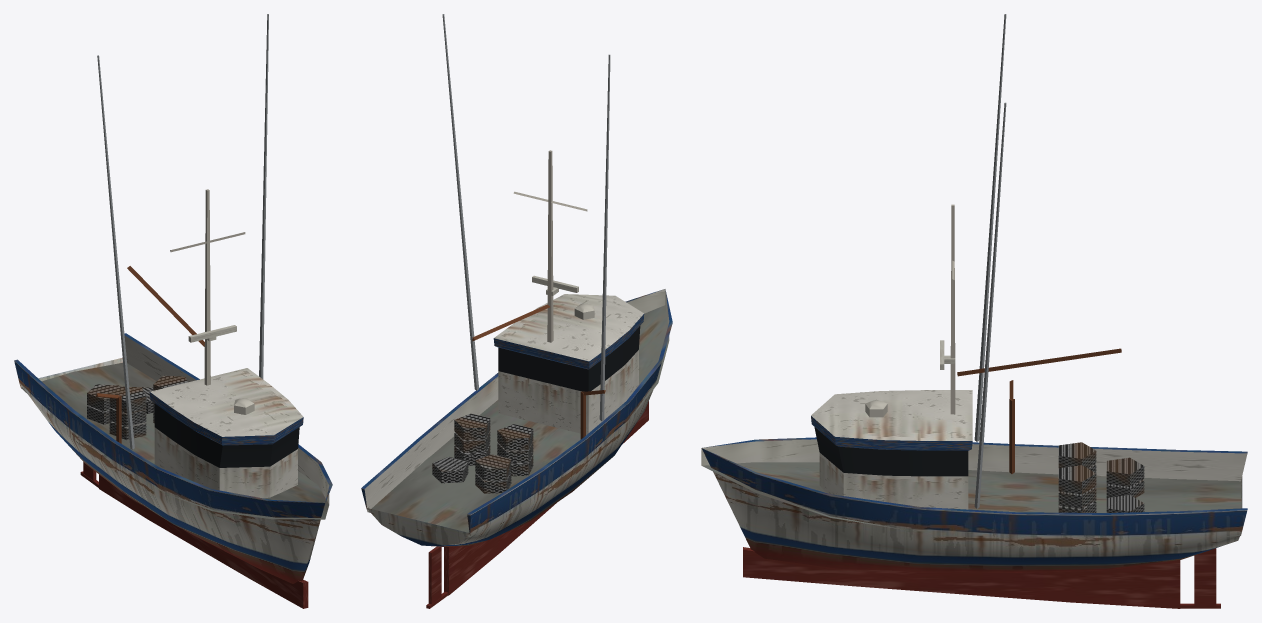
The model's file is fishingBoat-a-lod2.glb.
3 renders of one model, left to right at view 1: azimuth 30°, elevation 25°; view 2: azimuth 150°, elevation 25°; view 3: azimuth 270°, elevation 25°, orthographic. The views are drawn at different scales.
Parts seen in each view (by area): view 1: Hull, Superstructure, Rig, Gear; view 2: Hull, Superstructure, Gear, Rig; view 3: Hull, Superstructure, Rig, Gear.
Part boxes in pixels (left/top/right/bottom): Hull: left=14, top=333, right=332, bottom=608; Superstructure: left=149, top=368, right=303, bottom=498; Rig: left=97, top=14, right=268, bottom=449; Gear: left=87, top=375, right=187, bottom=443; Hull: left=361, top=289, right=672, bottom=608; Superstructure: left=493, top=294, right=644, bottom=434; Gear: left=432, top=390, right=605, bottom=493; Rig: left=442, top=14, right=610, bottom=421; Hull: left=701, top=437, right=1247, bottom=608; Superstructure: left=811, top=390, right=972, bottom=509; Rig: left=865, top=14, right=1121, bottom=508; Gear: left=1009, top=380, right=1144, bottom=512.
Size of the model in its own units: 4.84 by 13.85 by 12.48.
1 material, 1 textured.
